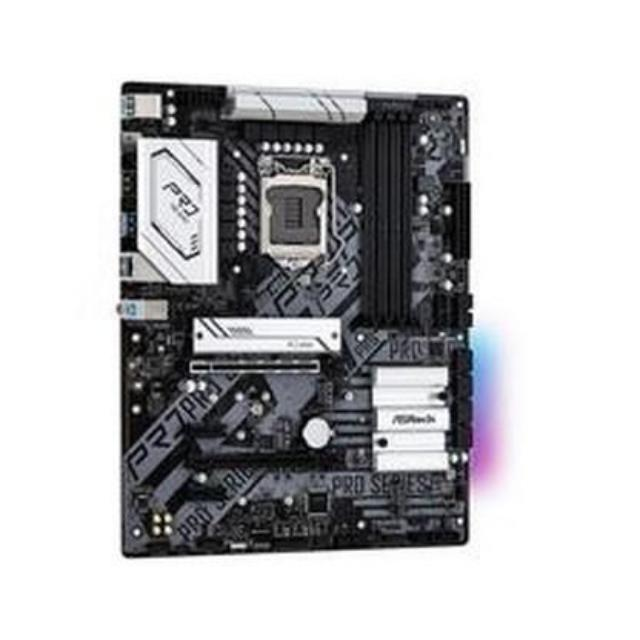Mainboard: (114, 73, 472, 559)
